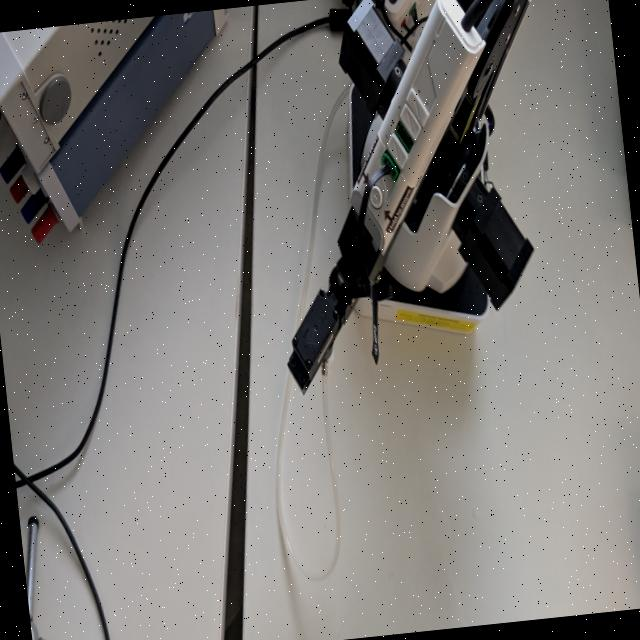Robot-end-effector-HF8z: (276, 277, 354, 404)
